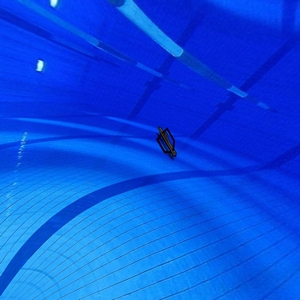submarine: (151, 120, 185, 165)
